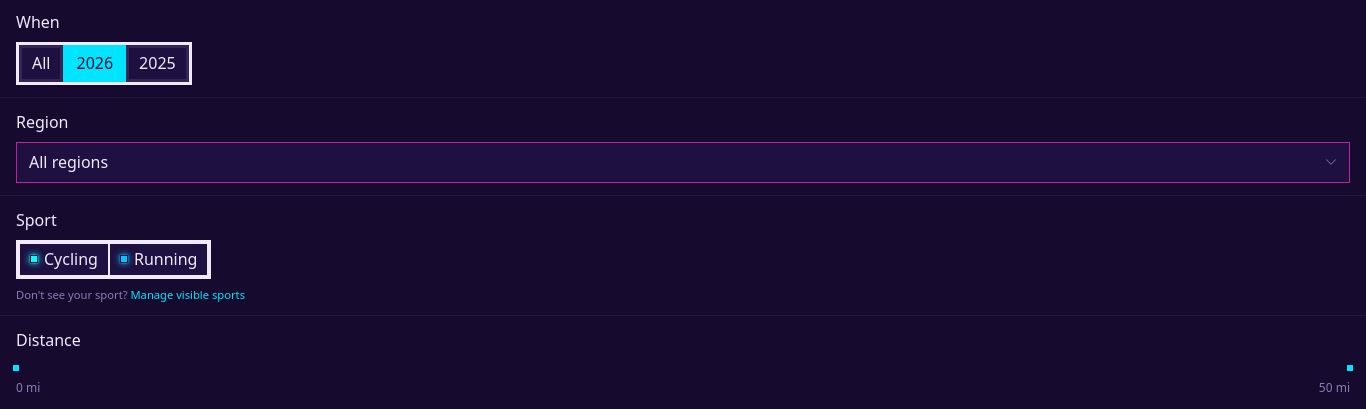
MapFilterControls › carries the map-chrome remap onto the region popup, which portals out of the drawer
The width and height of the screenshot is (1366, 409).
Click the dropdown at (69, 162), box x1=16 y1=142 x2=1350 y2=183
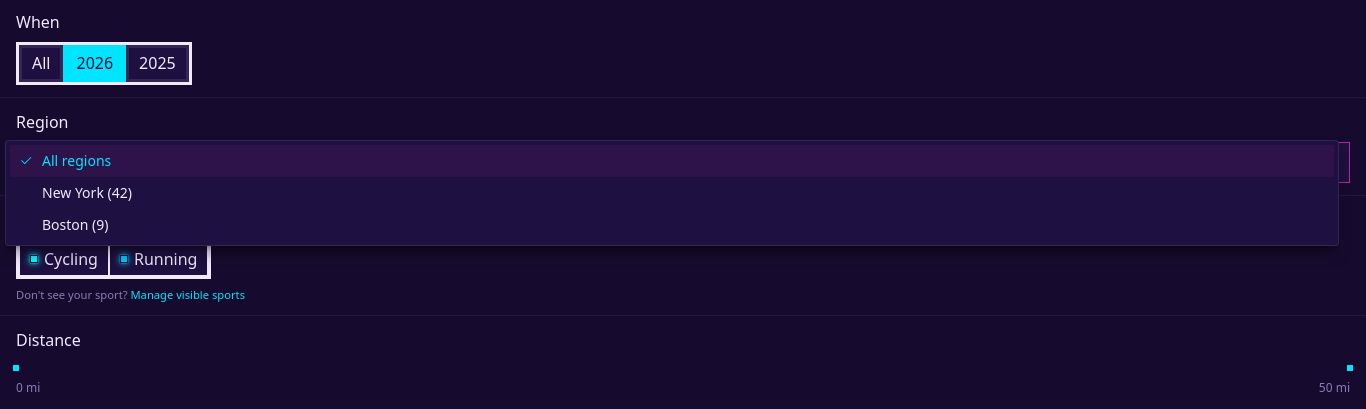
Expected: the list "All regions New York (42) Boston (9)" is shown, x1=5 y1=140 x2=1339 y2=246
